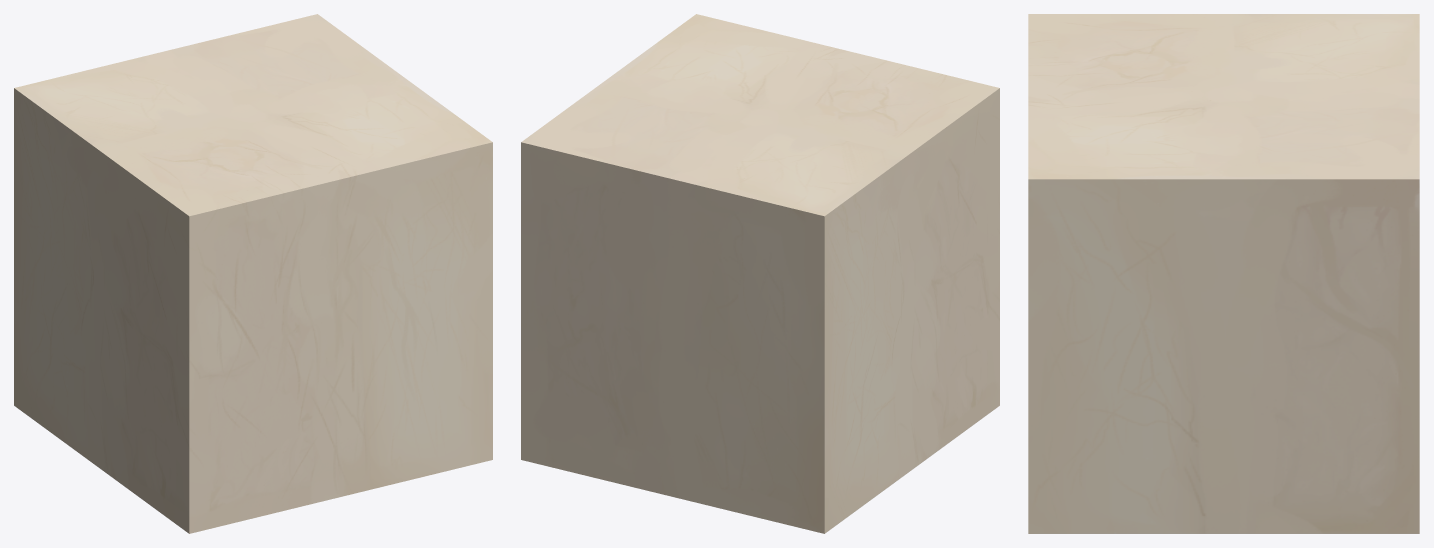
The model's file is cookie3.fbx.
3 renders of one model, left to right at view 1: azimuth 30°, elevation 25°; view 2: azimuth 150°, elevation 25°; view 3: azimuth 270°, elevation 25°, orthographic. The views are drawn at different scales.
Visible parts, largest first — view 1: pCube1; view 2: pCube1; view 3: pCube1.
Boxes of the visible parts, x1,y1,x2,y2 form: pCube1: [14, 14, 492, 533]; pCube1: [521, 14, 999, 533]; pCube1: [1028, 14, 1419, 533].
Size of the model in its own units: 1 by 1 by 1.
1 material, 1 textured.
